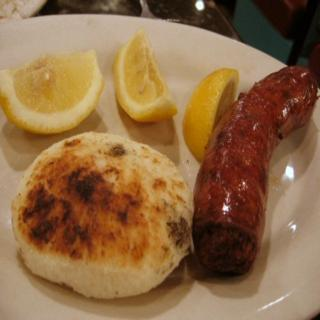Lemon: (0, 53, 107, 132), (112, 29, 178, 122), (185, 66, 240, 165)
